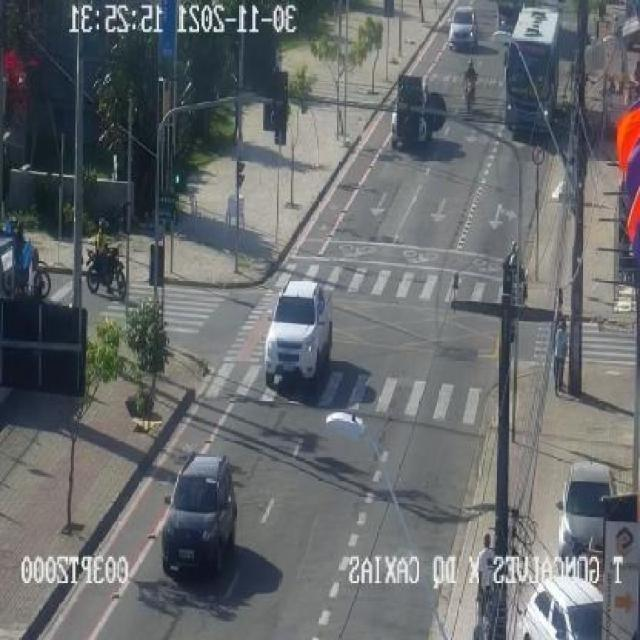Bus: (506, 2, 564, 140)
Car: (160, 454, 235, 580), (264, 280, 330, 385), (556, 461, 622, 564), (520, 577, 603, 640), (447, 5, 479, 52)
Cycle: (83, 245, 127, 300), (14, 246, 54, 298)
